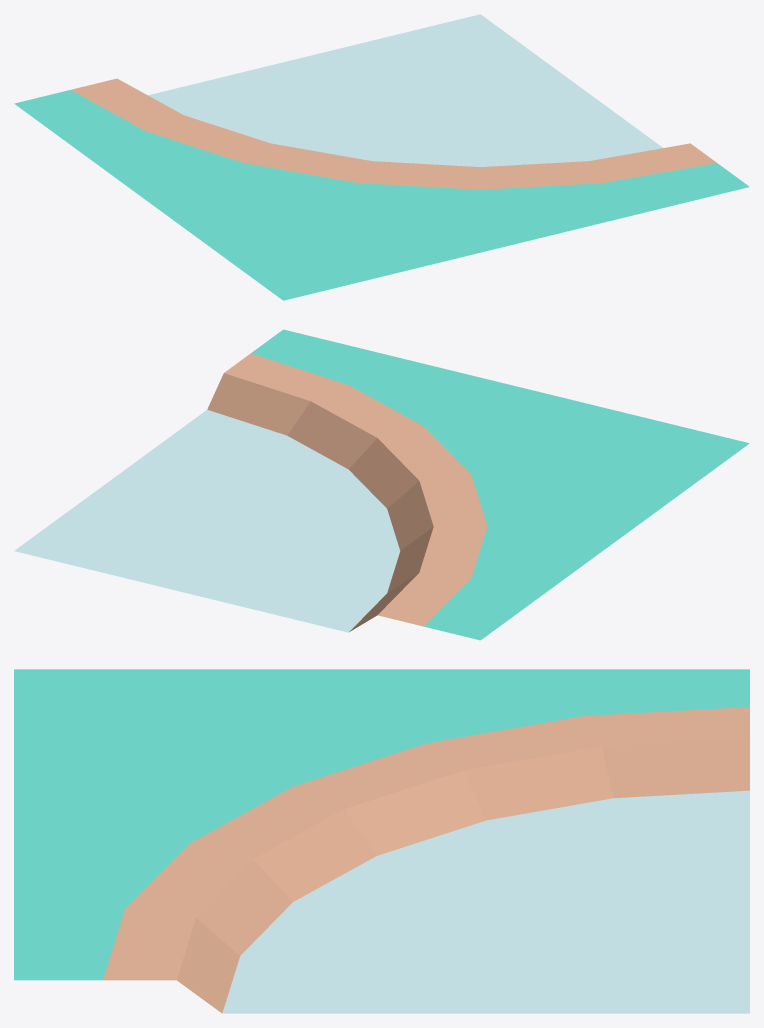
Rendered from riverCorner.fbx.
3 renders of one model, top to bottom at view 1: azimuth 30°, elevation 25°; view 2: azimuth 150°, elevation 25°; view 3: azimuth 270°, elevation 25°, orthographic. The views are drawn at different scales.
Parts seen in each view (by area): view 1: ground_riverCorner_3.001; view 2: ground_riverCorner_3.001; view 3: ground_riverCorner_3.001.
Boxes of the visible parts, x1=… form: ground_riverCorner_3.001: x1=14, y1=14, x2=749, y2=300; ground_riverCorner_3.001: x1=14, y1=329, x2=749, y2=640; ground_riverCorner_3.001: x1=14, y1=669, x2=749, y2=1013.
Bounding box in the file's own units: 100 × 5 × 100.
